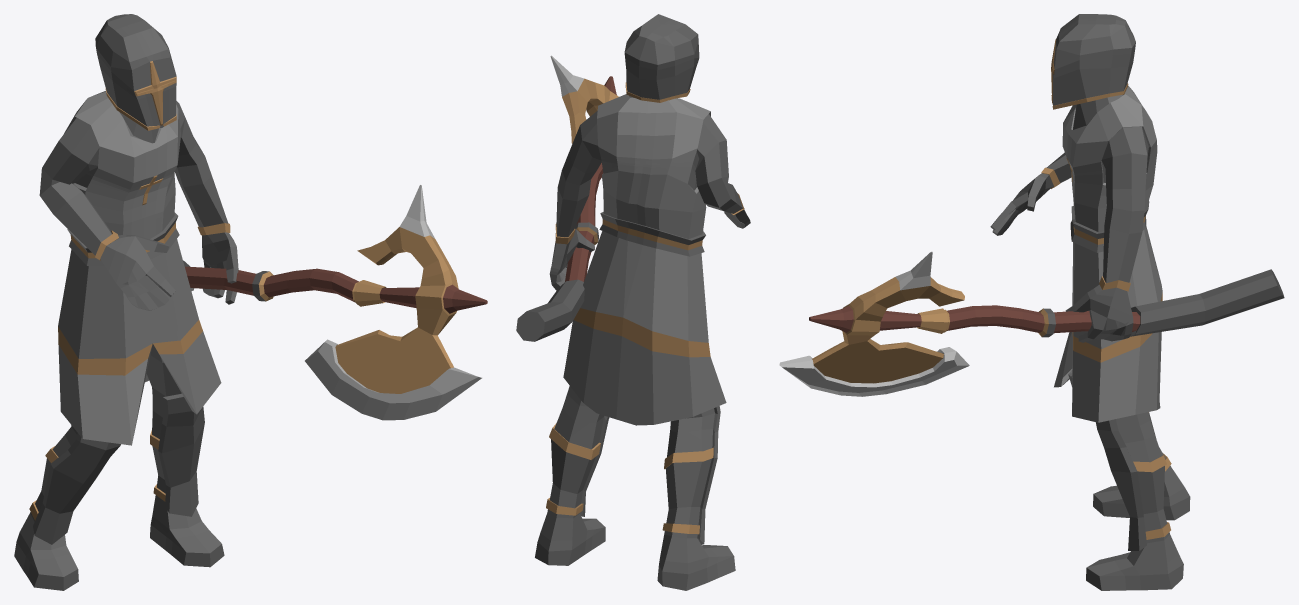
The model's file is AxeManPose.fbx.
3 renders of one model, left to right at view 1: azimuth 30°, elevation 25°; view 2: azimuth 150°, elevation 25°; view 3: azimuth 270°, elevation 25°, orthographic. The views are drawn at different scales.
Visible parts, largest first — view 1: Axe Man; view 2: Axe Man; view 3: Axe Man.
Part boxes in pixels (<box>): Axe Man: <box>14,14,487,590</box>; Axe Man: <box>516,14,750,590</box>; Axe Man: <box>779,14,1284,590</box>.
Bounding box in the file's own units: 268 × 486 × 421.
